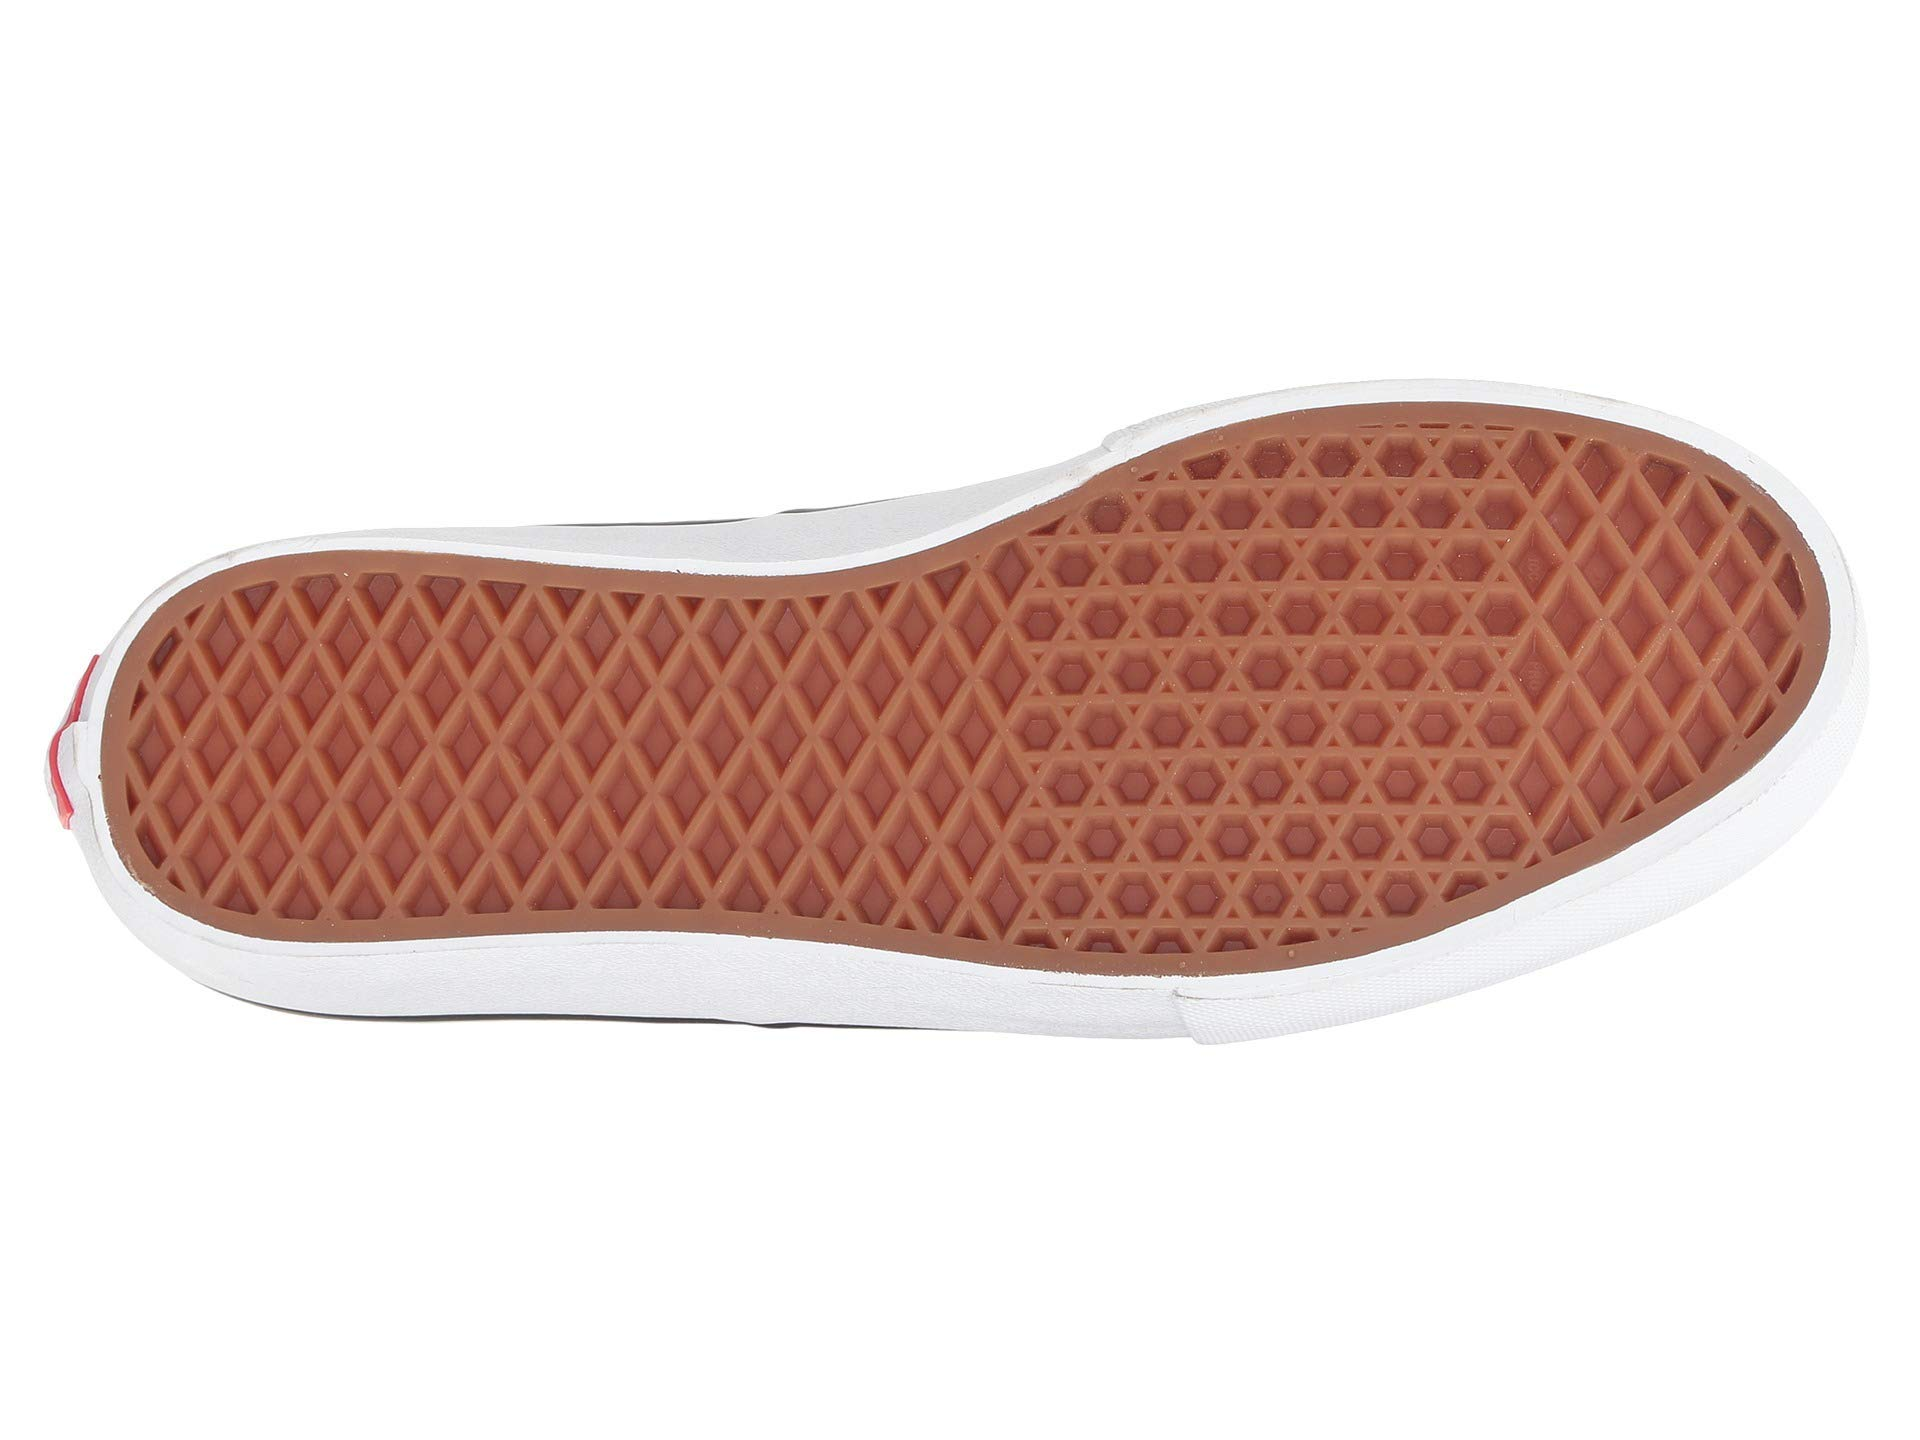polygon: (1030, 466, 1513, 923)
quad: (181, 597, 1004, 923), (1534, 495, 1746, 759)
triangle: (1030, 466, 1513, 923)
